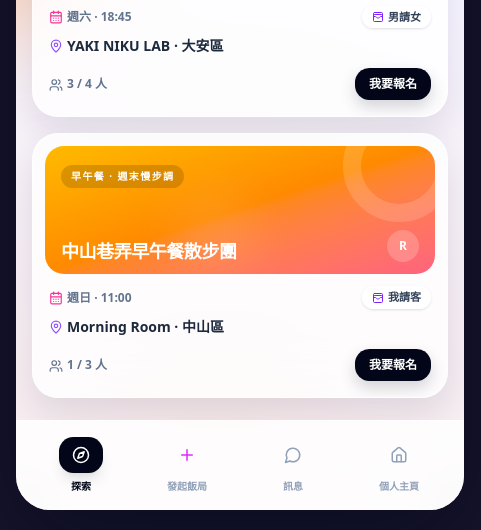
Test: DineLink 手機版核心互動 › 已確認聊天室可送出文字訊息
(page scrolled)
Click the button "訊息": {"x": 293, "y": 465} top-left (240, 430), bottom-right (346, 500)
(page scrolled)
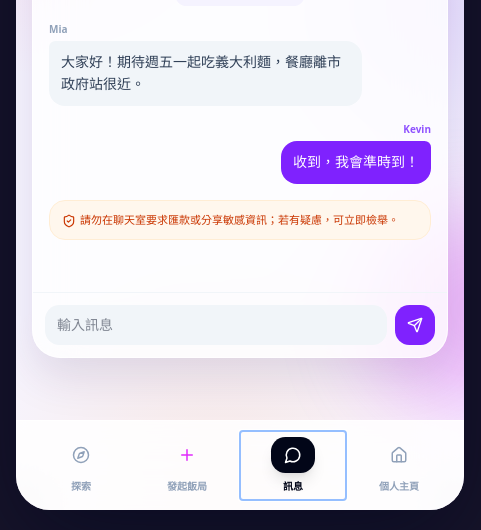
In the field with placeholder "輸入訊息": {"x": 216, "y": 325} top-left (45, 305), bottom-right (387, 345), type "週五見！"
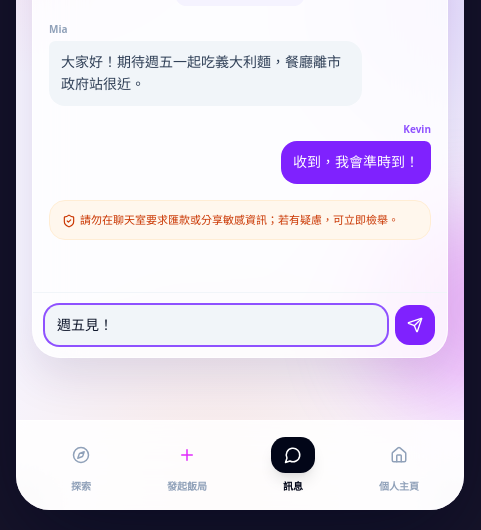
Click the button named "發送訊息": {"x": 415, "y": 325} top-left (395, 305), bottom-right (435, 345)
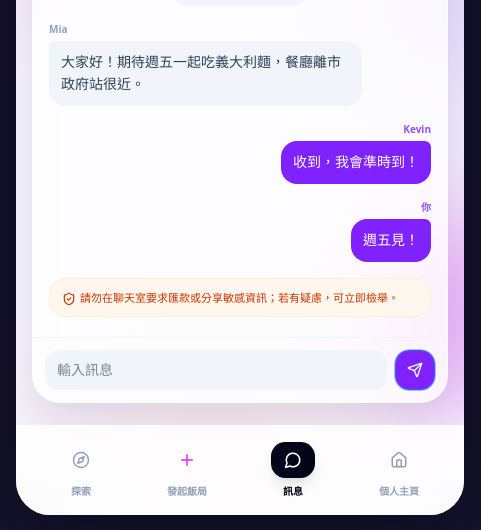
Check: the text "週五見！" is shown, box top-left (351, 219), bottom-right (431, 262)
